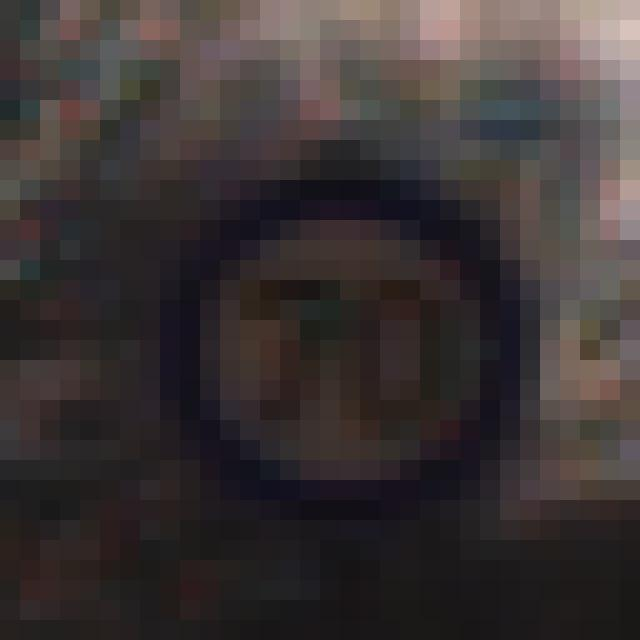SPEED LIMIT 70: (165, 180, 537, 522)
